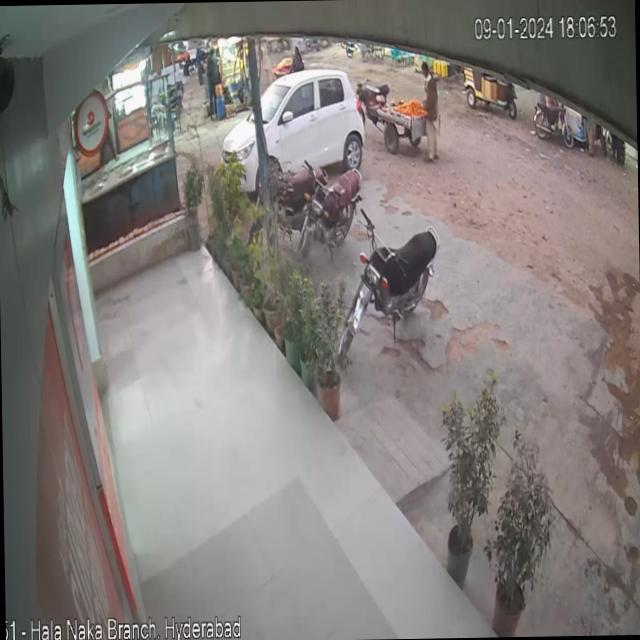Motorcycle: (334, 195, 450, 363), (300, 156, 369, 252), (533, 94, 573, 152)
